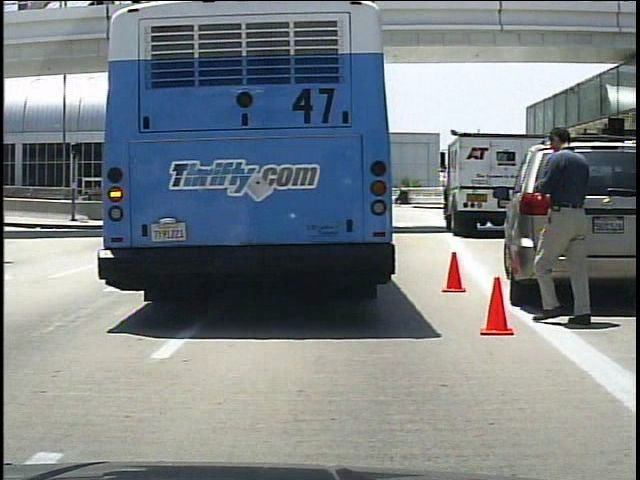person: (512, 119, 600, 336)
